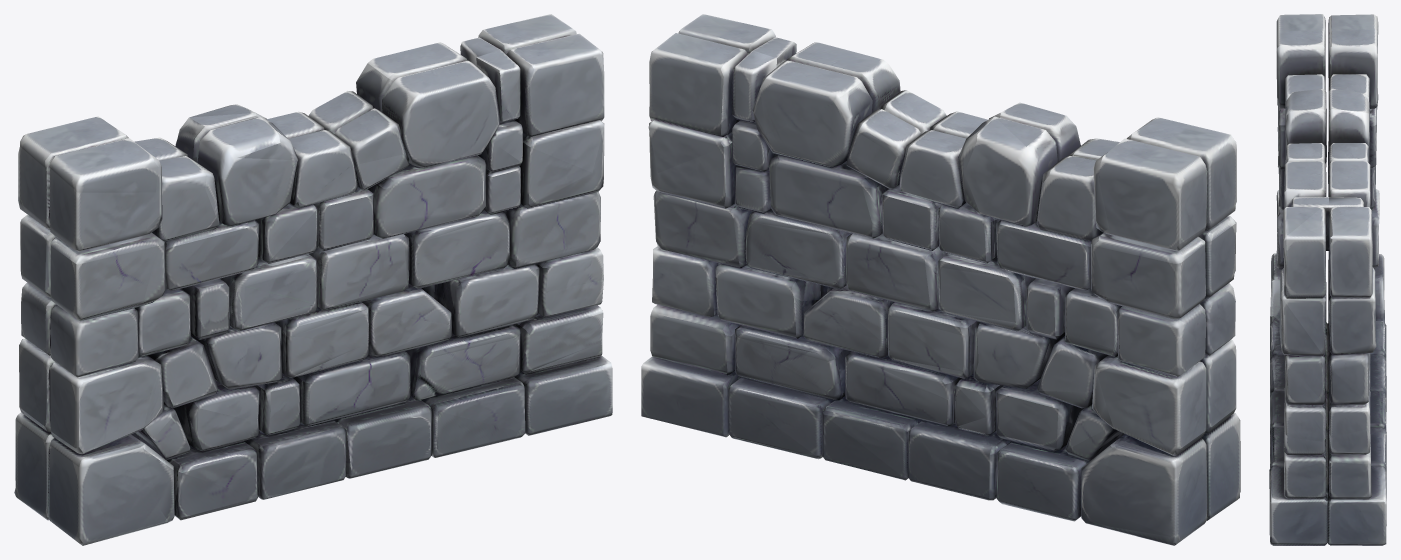
Rendered from wall_match_door_light.glb.
3 renders of one model, left to right at view 1: azimuth 30°, elevation 25°; view 2: azimuth 150°, elevation 25°; view 3: azimuth 270°, elevation 25°, orthographic. The views are drawn at different scales.
Bounding box in the file's own units: 1 × 0.6621 × 0.2241.
1 material, 1 textured.
